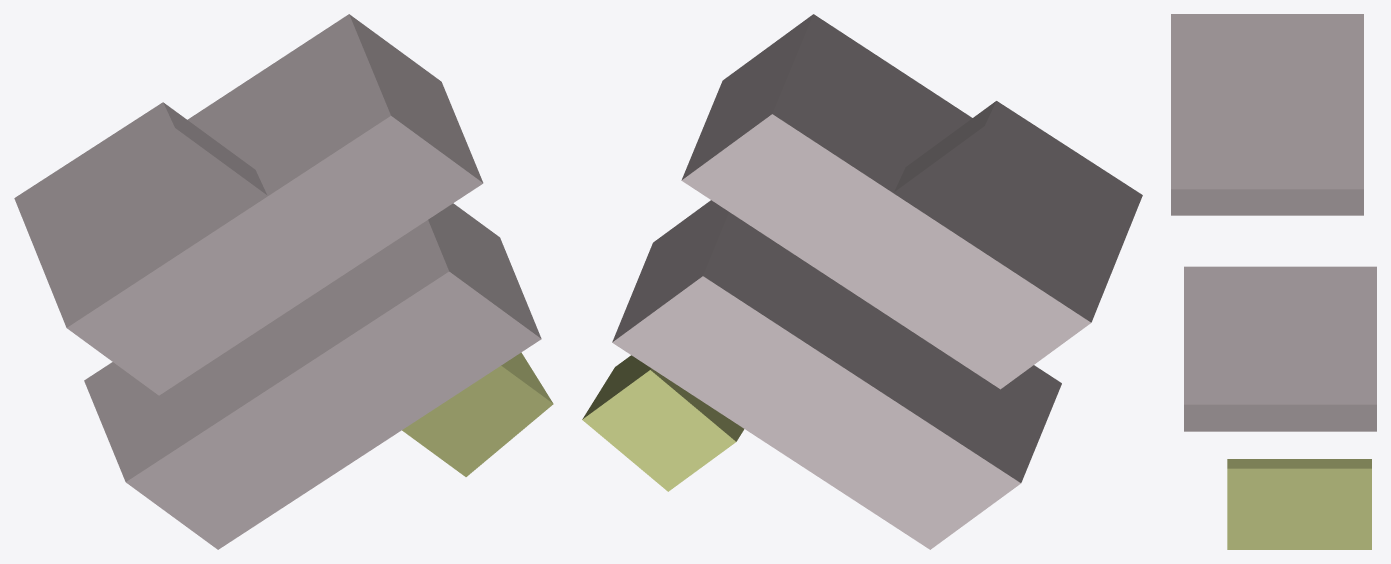
3 views of the same model, side by side, from view 1: azimuth 30°, elevation 25°; view 2: azimuth 150°, elevation 25°; view 3: azimuth 270°, elevation 25° (orthographic). The views are drawn at different scales.
Visible parts, largest first — view 1: 0_1_0_2_0_2_0_2_3; view 2: 0_1_0_2_0_2_0_2_3; view 3: 0_1_0_2_0_2_0_2_3.
Part boxes in pixels (x1,y1,x2,y2): 0_1_0_2_0_2_0_2_3: (14, 14, 553, 549); 0_1_0_2_0_2_0_2_3: (582, 14, 1142, 549); 0_1_0_2_0_2_0_2_3: (1171, 14, 1376, 549).
Size of the model in its own units: 35.51 by 30.64 by 12.8.
